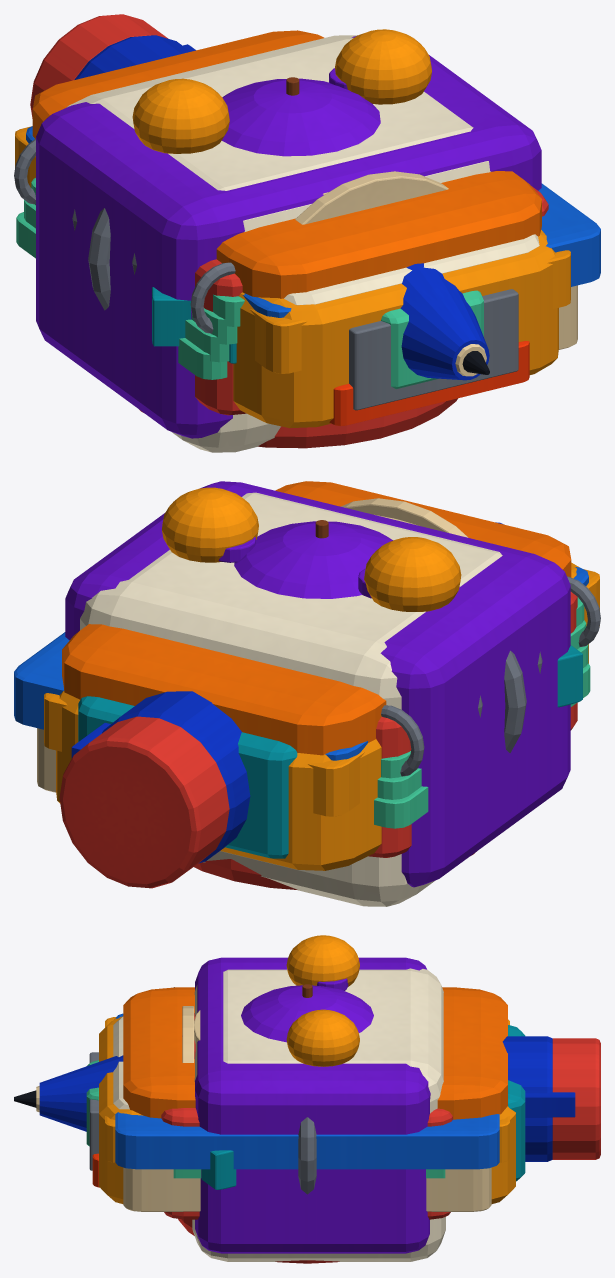
Rendered from desktop-cleanup-items-v1.glb.
3 renders of one model, top to bottom at view 1: azimuth 30°, elevation 25°; view 2: azimuth 150°, elevation 25°; view 3: azimuth 270°, elevation 25°, orthographic. The views are drawn at different scales.
Parts seen in each view (by area): view 1: MESH_purple-mini-speaker, MESH_mustard-glasses-case, MESH_cream-alarm-clock, MESH_purple-stress-ball, MESH_blue-pen, MESH_yellow-eraser, MESH_spiral-notebook, MESH_teal-usb, MESH_red-pencil, MESH_mint-notes, MESH_coral-candle-jar, MESH_orange-tape (+4 smaller); view 2: MESH_purple-mini-speaker, MESH_cream-alarm-clock, MESH_mustard-glasses-case, MESH_red-pencil, MESH_purple-stress-ball, MESH_teal-usb, MESH_spiral-notebook, MESH_blue-pen, MESH_yellow-eraser, MESH_mint-notes, MESH_coral-keycap, MESH_binder-clip (+2 smaller); view 3: MESH_purple-mini-speaker, MESH_cream-alarm-clock, MESH_spiral-notebook, MESH_mustard-glasses-case, MESH_blue-pen, MESH_red-pencil, MESH_purple-stress-ball, MESH_teal-usb, MESH_yellow-eraser, MESH_coral-keycap, MESH_binder-clip, MESH_clear-ruler (+2 smaller).
Part boxes in pixels (x1=…): MESH_purple-mini-speaker: x1=36, y1=36, x2=541, y2=438; MESH_mustard-glasses-case: x1=29, y1=30, x2=558, y2=428; MESH_cream-alarm-clock: x1=66, y1=29, x2=490, y2=452; MESH_purple-stress-ball: x1=222, y1=78, x2=380, y2=156; MESH_blue-pen: x1=74, y1=35, x2=489, y2=380; MESH_yellow-eraser: x1=15, y1=126, x2=570, y2=373; MESH_spiral-notebook: x1=14, y1=126, x2=600, y2=349; MESH_teal-usb: x1=349, y1=289, x2=518, y2=410; MESH_red-pencil: x1=30, y1=14, x2=489, y2=376; MESH_mint-notes: x1=16, y1=178, x2=244, y2=379; MESH_coral-candle-jar: x1=139, y1=77, x2=457, y2=448; MESH_orange-tape: x1=329, y1=341, x2=529, y2=426; MESH_purple-mini-speaker: x1=65, y1=481, x2=570, y2=887; MESH_cream-alarm-clock: x1=80, y1=487, x2=502, y2=906; MESH_mustard-glasses-case: x1=56, y1=481, x2=588, y2=870; MESH_red-pencil: x1=59, y1=716, x2=229, y2=888; MESH_purple-stress-ball: x1=234, y1=521, x2=392, y2=598; MESH_teal-usb: x1=78, y1=696, x2=297, y2=858; MESH_spiral-notebook: x1=14, y1=567, x2=600, y2=792; MESH_blue-pen: x1=71, y1=522, x2=503, y2=863; MESH_yellow-eraser: x1=44, y1=569, x2=599, y2=816; MESH_mint-notes: x1=374, y1=597, x2=590, y2=828; MESH_coral-keycap: x1=368, y1=592, x2=577, y2=857; MESH_binder-clip: x1=504, y1=650, x2=526, y2=752; MESH_purple-mini-speaker: x1=195, y1=957, x2=430, y2=1253; MESH_cream-alarm-clock: x1=182, y1=935, x2=445, y2=1261; MESH_spiral-notebook: x1=115, y1=987, x2=499, y2=1211; MESH_mustard-glasses-case: x1=99, y1=987, x2=515, y2=1203; MESH_blue-pen: x1=39, y1=1036, x2=575, y2=1161; MESH_red-pencil: x1=14, y1=1038, x2=600, y2=1159; MESH_purple-stress-ball: x1=241, y1=985, x2=373, y2=1042; MESH_teal-usb: x1=89, y1=1025, x2=525, y2=1181; MESH_yellow-eraser: x1=105, y1=1016, x2=509, y2=1162; MESH_coral-keycap: x1=161, y1=1108, x2=452, y2=1219; MESH_binder-clip: x1=298, y1=1117, x2=316, y2=1194; MESH_clear-ruler: x1=201, y1=1150, x2=236, y2=1189.
Size of the model in its own units: 1.73 by 1.32 by 2.87.
Materials: 1 (1 with a texture image).
